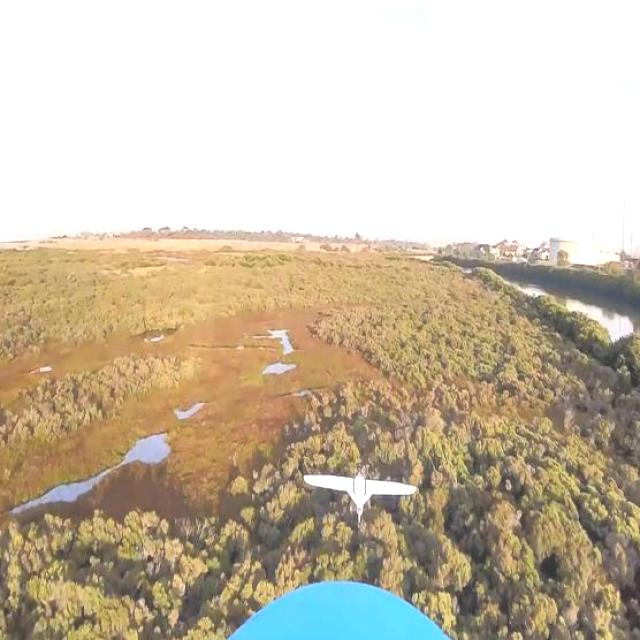plane: (302, 464, 420, 525)
